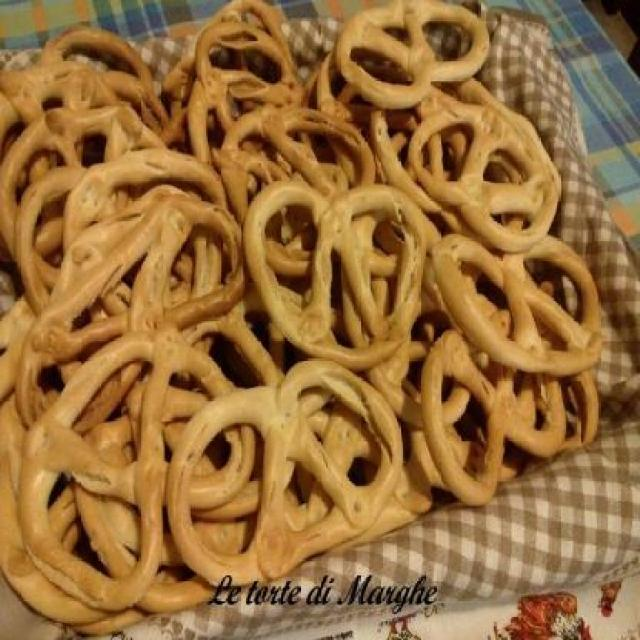Taralli: (5, 7, 603, 591)
